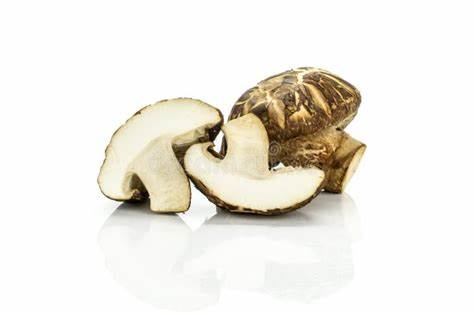Mushroom: (220, 63, 369, 213), (92, 81, 226, 219), (177, 108, 325, 221)
